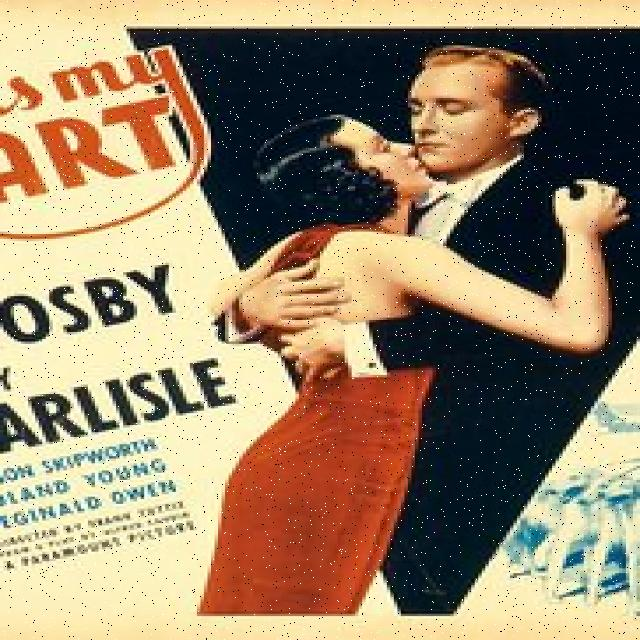picture: (193, 0, 639, 623)
